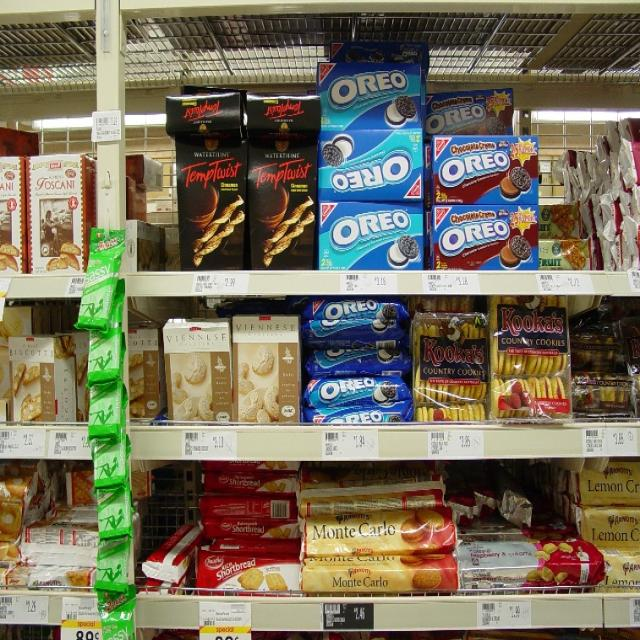q211: (28, 148, 88, 274)
